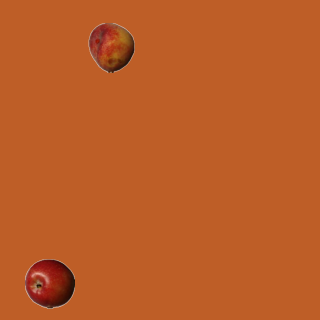Apple Braeburn: (24, 258, 74, 308)
Peach: (86, 22, 136, 72)
